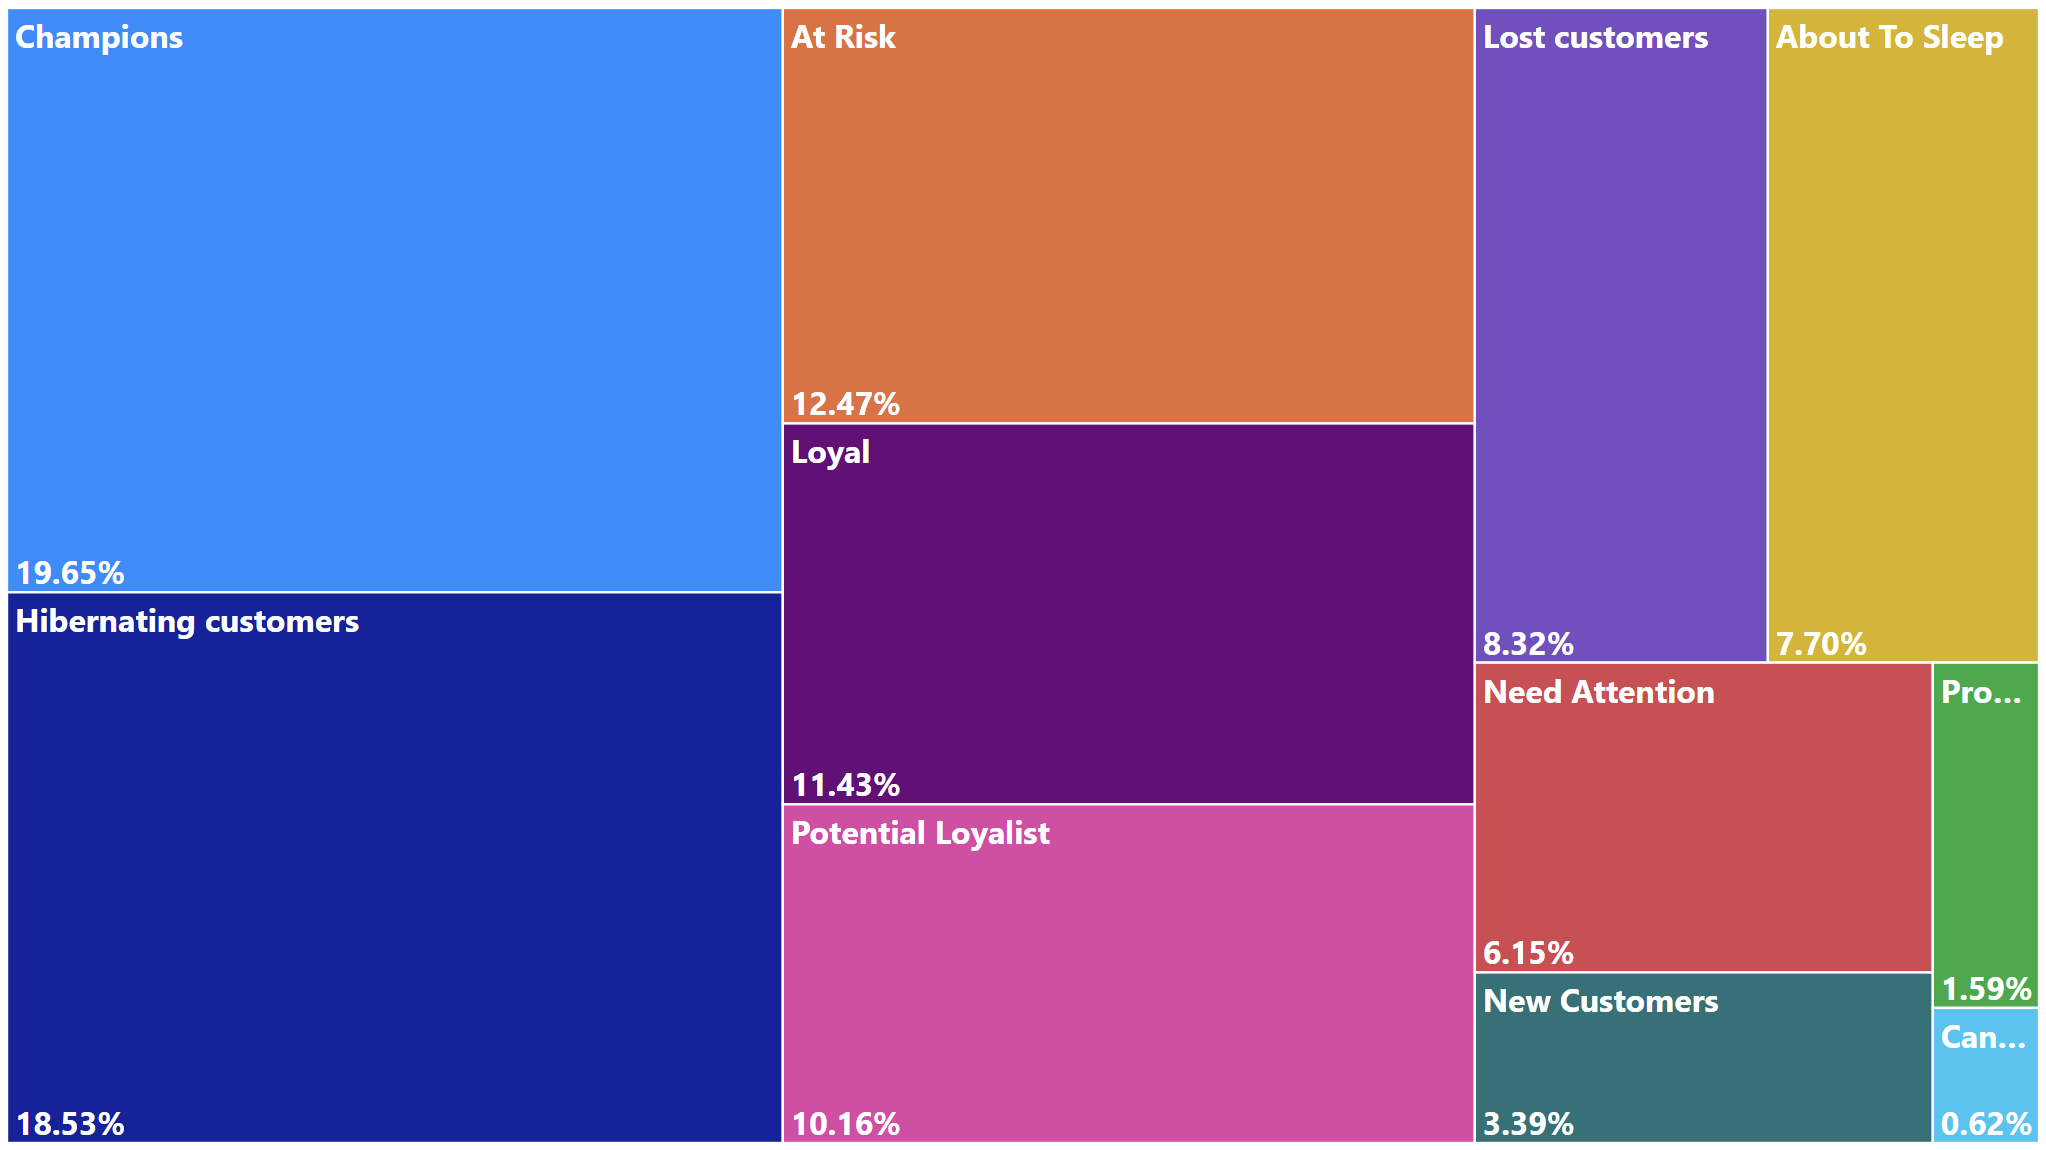

What the dashboard file says about the page in this screenshot:
{"tool":"powerbi","page":{"name":"RFM_01","canvas":[1280,720],"ordinal":1},"visuals":[{"type":"treemap","fields":{"Values":["CountNonNull(Z2_RFM_Score.RFM_Score)"],"Group":["Z2_RFM_Score.Segment"]},"box":[0,0,1280,719.4],"z":0}]}

Visuals, with their boxes in screenshot pixels (x1, y1, x2, y2), scaled from the page's 1280x720 canvas onto the 2046x1150 screenshot:
treemap - CountNonNull(Z2_RFM_Score.RFM_Score) x Z2_RFM_Score.Segment: 0, 0, 2045, 1149
